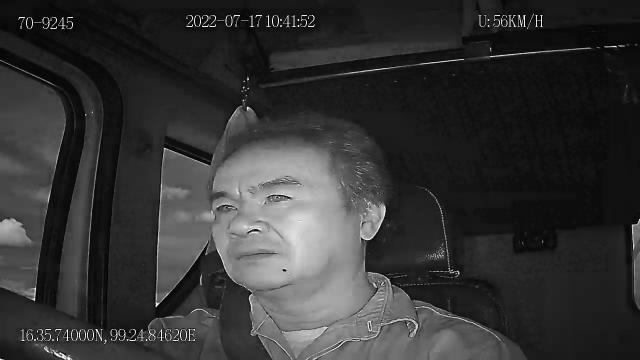SafeDriving: (258, 183, 302, 210), (208, 195, 244, 218)
Seatbelt: (218, 278, 274, 360)
